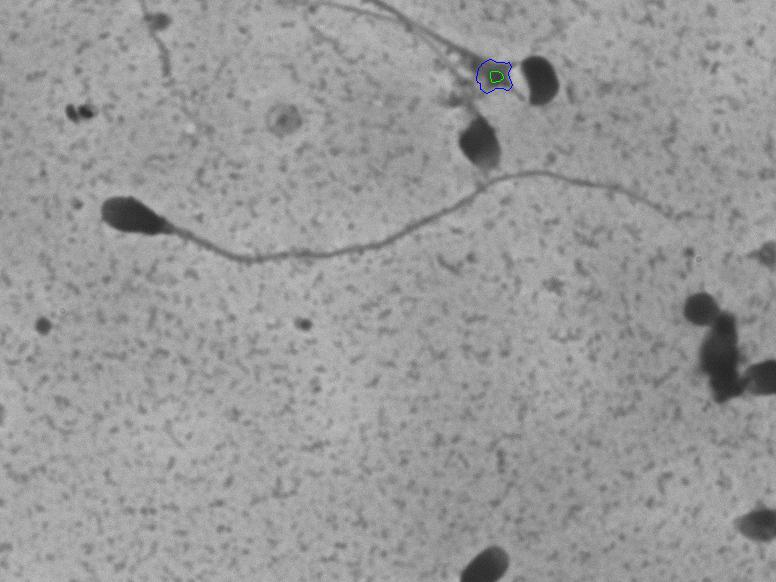Abnormal: (88, 165, 695, 327)
